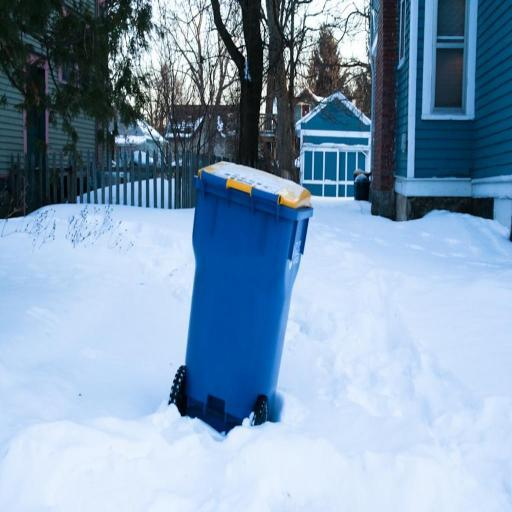trash-can: (184, 156, 316, 434)
